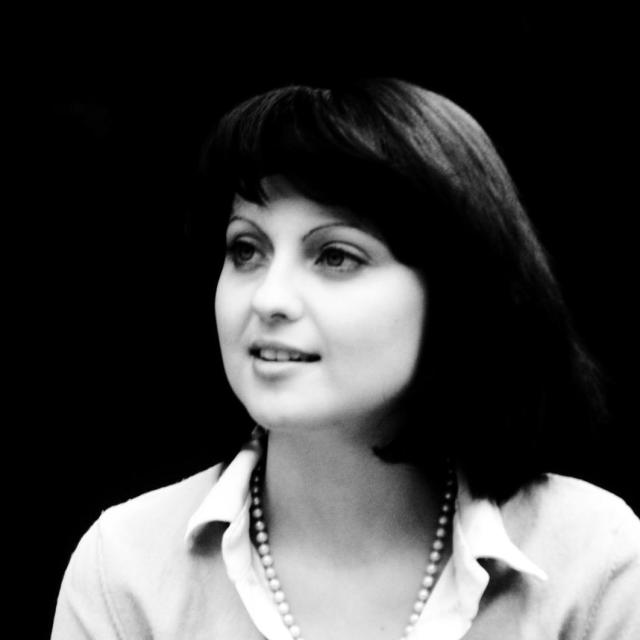no-glass: (226, 235, 372, 275)
